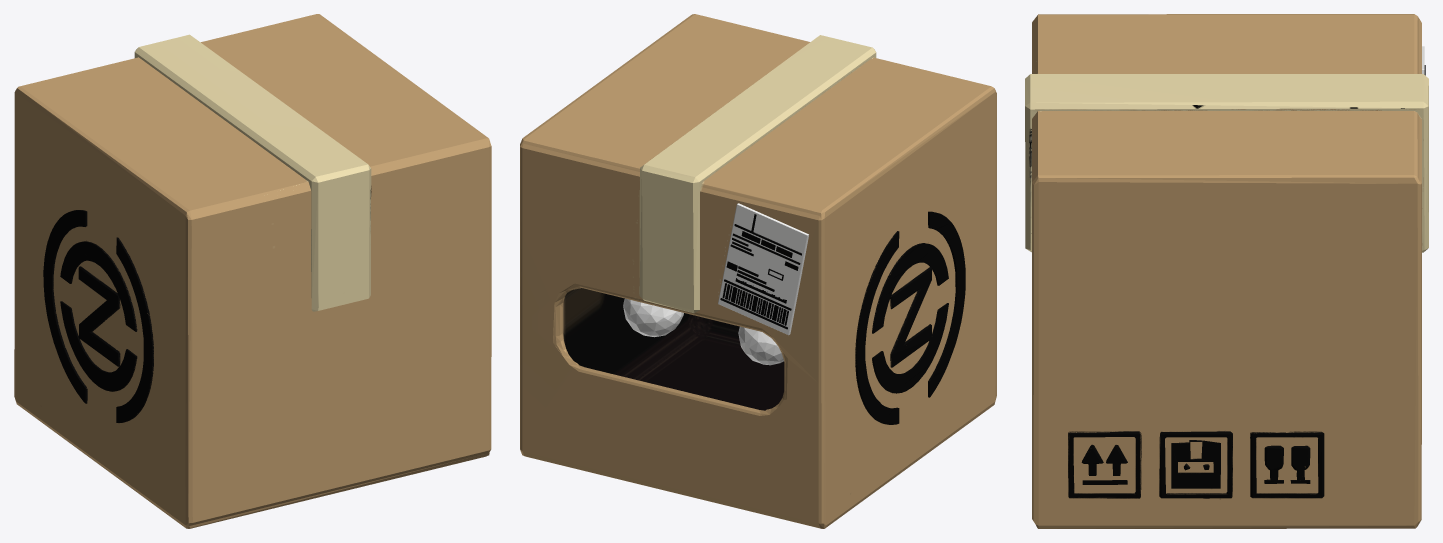
File: paketMitAugen.glb
3 views of the same model, side by side, from view 1: azimuth 30°, elevation 25°; view 2: azimuth 150°, elevation 25°; view 3: azimuth 270°, elevation 25° (orthographic). The views are drawn at different scales.
Visible parts, largest first — view 1: 22_11_16_02_55_04_190_1, 22_11_16_02_55_04_190_2, 22_11_16_02_55_04_190_5, 22_11_16_02_55_04_190_4, 22_11_16_02_55_04_190_6; view 2: 22_11_16_02_55_04_190_1, 22_11_16_02_55_04_190_2, 22_11_16_02_55_04_190_14, 22_11_16_02_55_04_190_5, 22_11_16_02_55_04_190_4, 22_11_16_02_55_04_190_15, 22_11_16_02_55_04_190_0, 22_11_16_02_55_04_190_6; view 3: 22_11_16_02_55_04_190_1, 22_11_16_02_55_04_190_2, 22_11_16_02_55_04_190_11, 22_11_16_02_55_04_190_10, 22_11_16_02_55_04_190_9, 22_11_16_02_55_04_190_7, 22_11_16_02_55_04_190_12, 22_11_16_02_55_04_190_13, 22_11_16_02_55_04_190_8.
Part boxes in pixels (x1=…): 22_11_16_02_55_04_190_1: x1=14, y1=14, x2=491, y2=528; 22_11_16_02_55_04_190_2: x1=134, y1=34, x2=371, y2=311; 22_11_16_02_55_04_190_5: x1=43, y1=210, x2=153, y2=422; 22_11_16_02_55_04_190_4: x1=60, y1=241, x2=137, y2=391; 22_11_16_02_55_04_190_6: x1=78, y1=266, x2=120, y2=366; 22_11_16_02_55_04_190_1: x1=520, y1=14, x2=996, y2=528; 22_11_16_02_55_04_190_2: x1=639, y1=35, x2=876, y2=313; 22_11_16_02_55_04_190_14: x1=718, y1=203, x2=808, y2=335; 22_11_16_02_55_04_190_5: x1=855, y1=211, x2=965, y2=424; 22_11_16_02_55_04_190_4: x1=872, y1=243, x2=948, y2=393; 22_11_16_02_55_04_190_15: x1=720, y1=214, x2=801, y2=329; 22_11_16_02_55_04_190_0: x1=623, y1=298, x2=783, y2=365; 22_11_16_02_55_04_190_6: x1=890, y1=267, x2=931, y2=367; 22_11_16_02_55_04_190_1: x1=1032, y1=14, x2=1421, y2=528; 22_11_16_02_55_04_190_2: x1=1025, y1=74, x2=1428, y2=252; 22_11_16_02_55_04_190_11: x1=1171, y1=440, x2=1220, y2=488; 22_11_16_02_55_04_190_10: x1=1250, y1=431, x2=1324, y2=498; 22_11_16_02_55_04_190_9: x1=1159, y1=431, x2=1232, y2=498; 22_11_16_02_55_04_190_7: x1=1068, y1=431, x2=1141, y2=498; 22_11_16_02_55_04_190_12: x1=1264, y1=445, x2=1283, y2=483; 22_11_16_02_55_04_190_13: x1=1290, y1=445, x2=1310, y2=483; 22_11_16_02_55_04_190_8: x1=1082, y1=444, x2=1127, y2=484.
Size of the model in its own units: 3.96 by 3.98 by 4.05.
16 materials, 16 textured.
